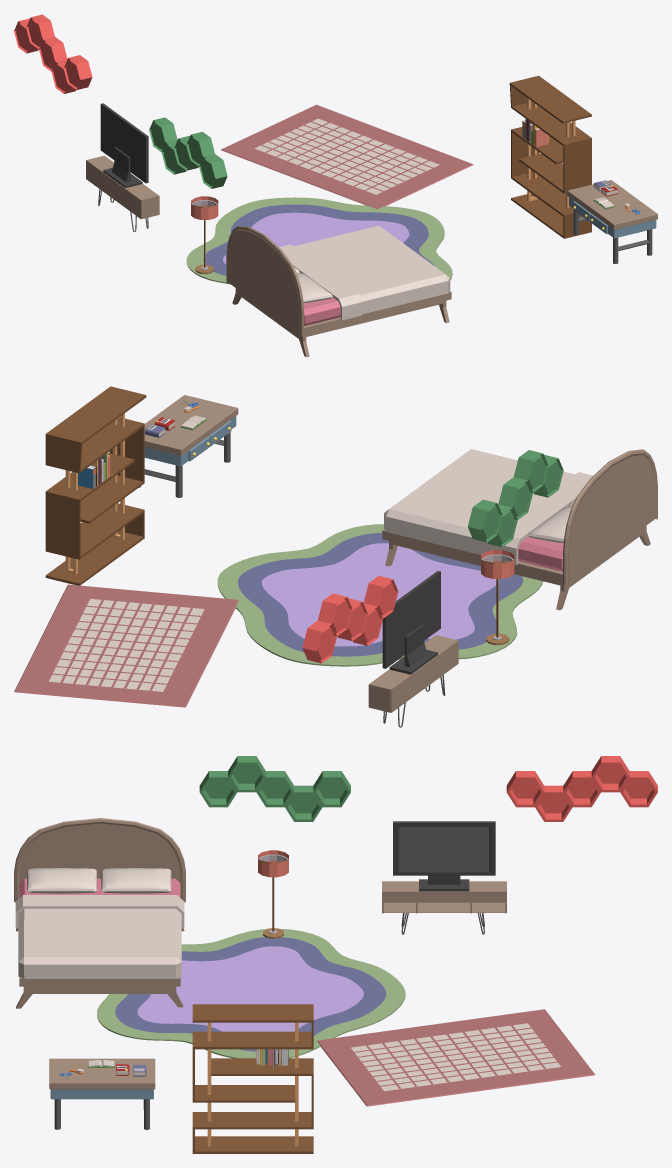
The model's file is Bed room 3top.fbx.
3 views of the same model, one above another, from view 1: azimuth 30°, elevation 25°; view 2: azimuth 150°, elevation 25°; view 3: azimuth 270°, elevation 25° (orthographic). The views are drawn at different scales.
Parts seen in each view (by area): view 1: Bed room 3, Rug.001, Rug, Book shelf, Book table, TV Room 3, Shelf Room 3, Shelf Room 3.001, Tv Stand, LAmp; view 2: Bed room 3, Rug, Rug.001, Book shelf, Book table, Shelf Room 3.001, Shelf Room 3, TV Room 3, Tv Stand, LAmp; view 3: Bed room 3, Rug, Rug.001, Book shelf, TV Room 3, Shelf Room 3.001, Shelf Room 3, Book table, Tv Stand, LAmp.
Part boxes in pixels (x1,y1,x2,y2): Bed room 3: [226, 225, 451, 357]; Rug.001: [221, 104, 473, 209]; Rug: [186, 197, 452, 284]; Book shelf: [509, 75, 591, 238]; Book table: [567, 180, 657, 263]; TV Room 3: [100, 103, 148, 187]; Shelf Room 3: [14, 14, 92, 93]; Shelf Room 3.001: [149, 117, 227, 188]; Tv Stand: [86, 155, 159, 231]; LAmp: [191, 196, 218, 274]; Bed room 3: [382, 449, 657, 610]; Rug: [217, 524, 543, 666]; Rug.001: [14, 584, 238, 707]; Book shelf: [45, 386, 146, 585]; Book table: [139, 395, 238, 497]; Shelf Room 3.001: [467, 450, 563, 547]; Shelf Room 3: [302, 576, 398, 663]; TV Room 3: [382, 571, 440, 674]; Tv Stand: [368, 635, 458, 727]; LAmp: [481, 550, 514, 645]; Bed room 3: [14, 818, 185, 1008]; Rug: [97, 929, 405, 1058]; Rug.001: [317, 1009, 595, 1106]; Book shelf: [192, 1004, 313, 1153]; TV Room 3: [393, 821, 495, 891]; Shelf Room 3.001: [199, 756, 350, 821]; Shelf Room 3: [506, 756, 657, 821]; Book table: [49, 1058, 155, 1129]; Tv Stand: [382, 881, 506, 934]; LAmp: [258, 850, 288, 938].
Size of the model in its own units: 465 by 199 by 607.
